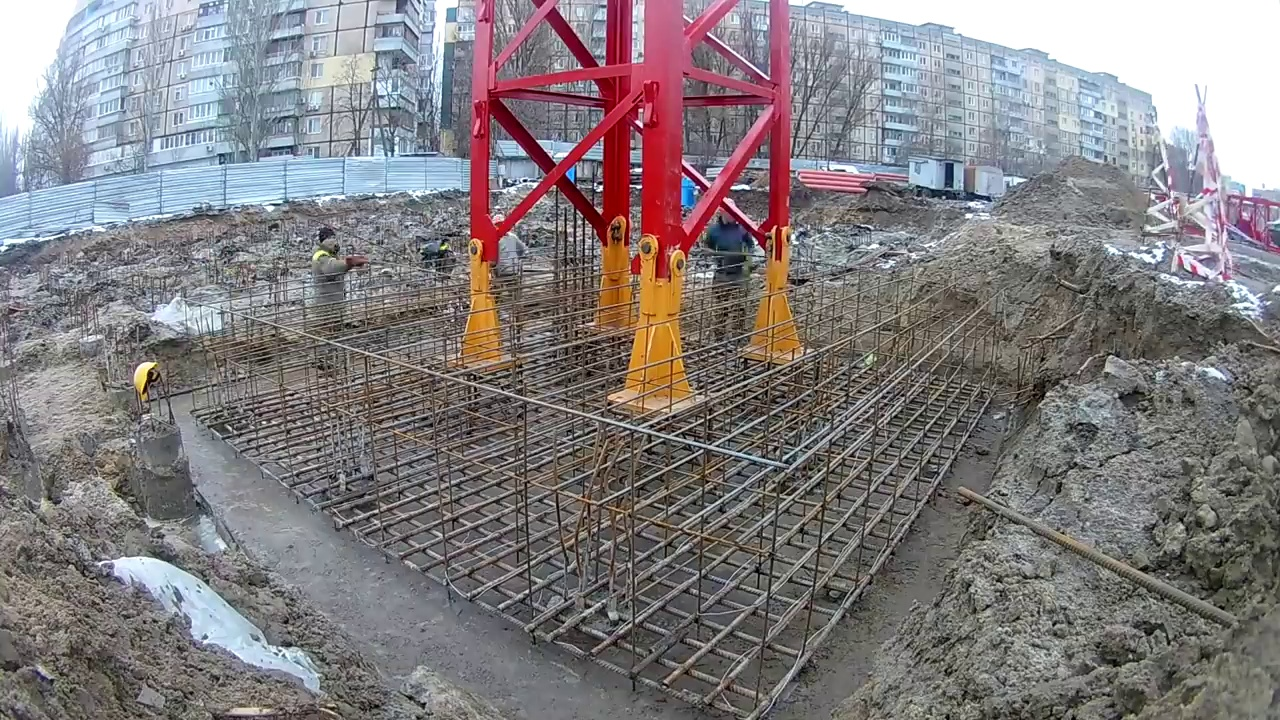helmet: (133, 361, 159, 403), (719, 198, 737, 213), (492, 215, 506, 226)
helmet-off: (316, 227, 337, 253)
helmet-on: (718, 198, 738, 225), (492, 215, 507, 230)
person: (707, 199, 750, 345), (309, 228, 350, 315), (489, 215, 528, 279)
